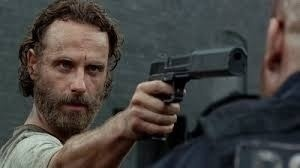pistol: (139, 45, 251, 101)
